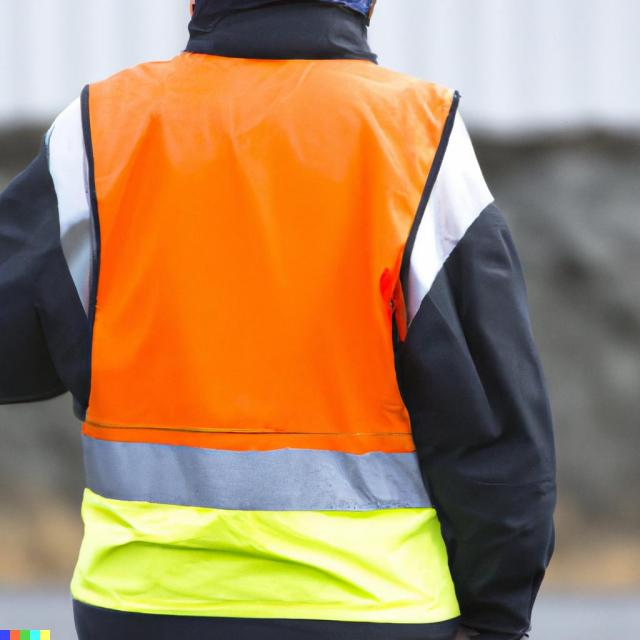Reflective-Jacket: (44, 0, 486, 640)
